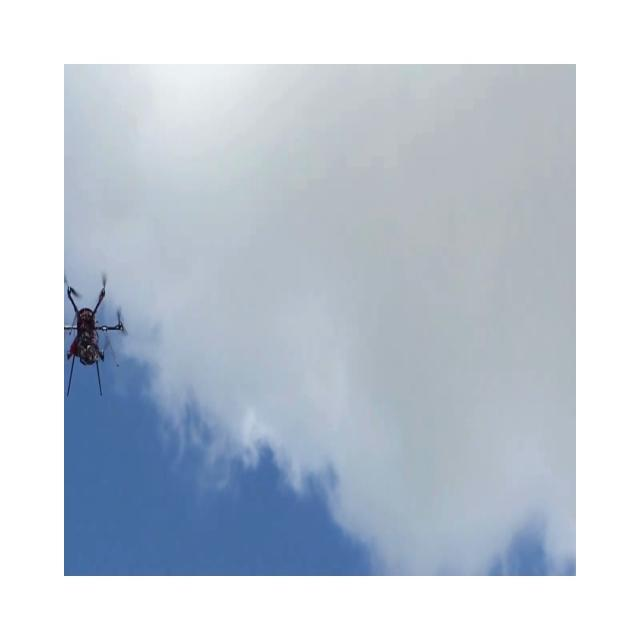drone: (63, 269, 128, 396)
